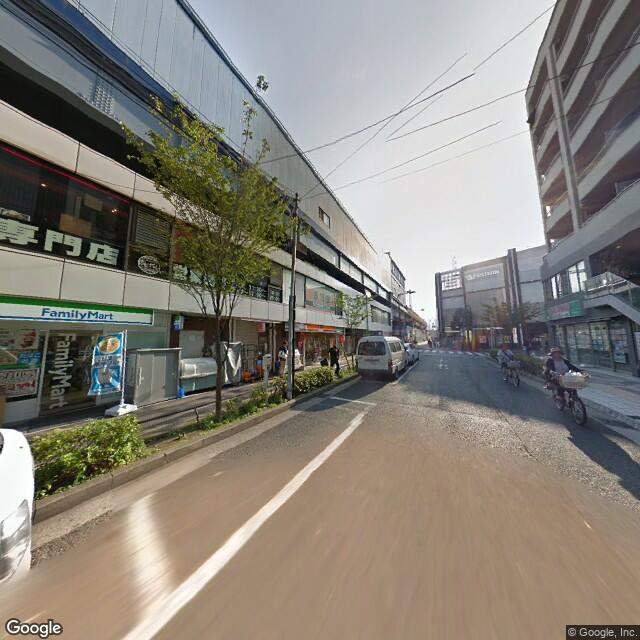family_mart: (1, 290, 156, 327), (46, 329, 76, 413)
